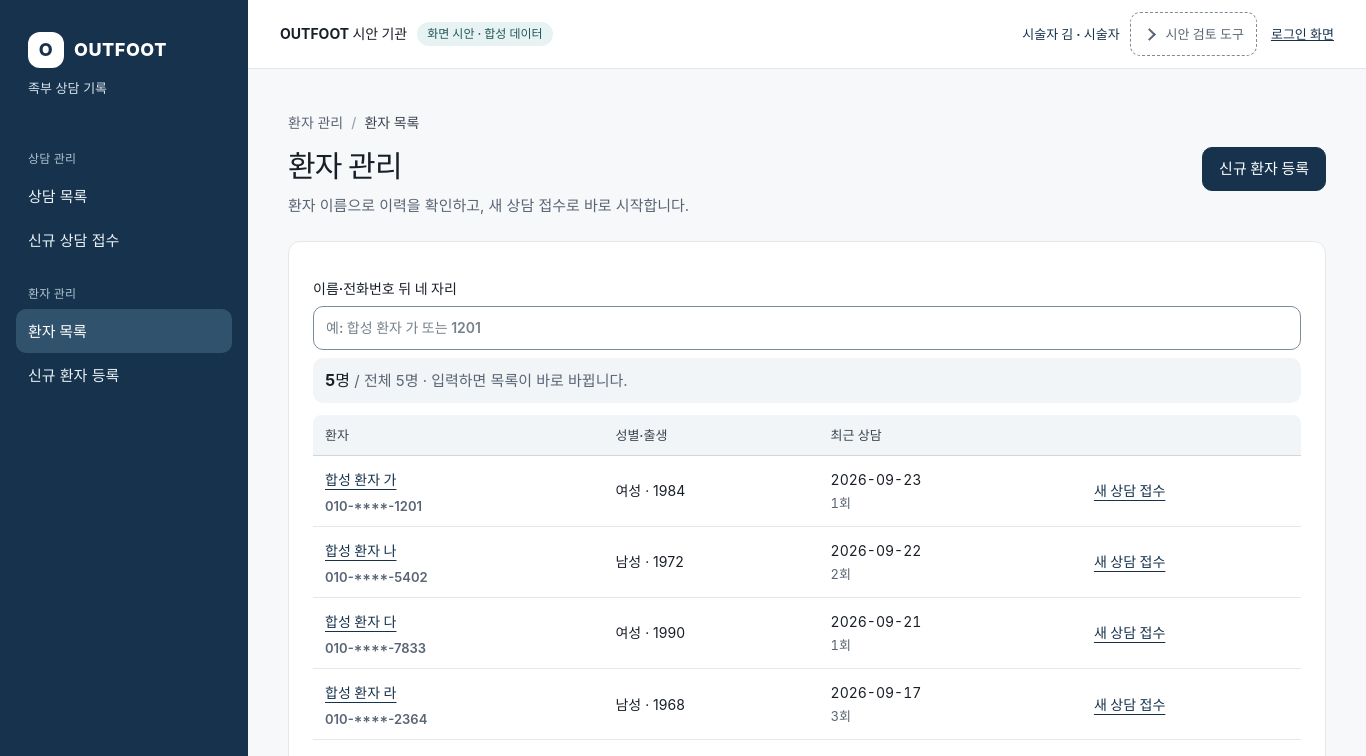
Test: patient list return path (R5) › returns from patient detail to the searched list with 환자 목록으로
Type "5402" into the search field labelled "이름·전화번호 뒤 네 자리" at (807, 328), box top-left (313, 306), bottom-right (1301, 350)
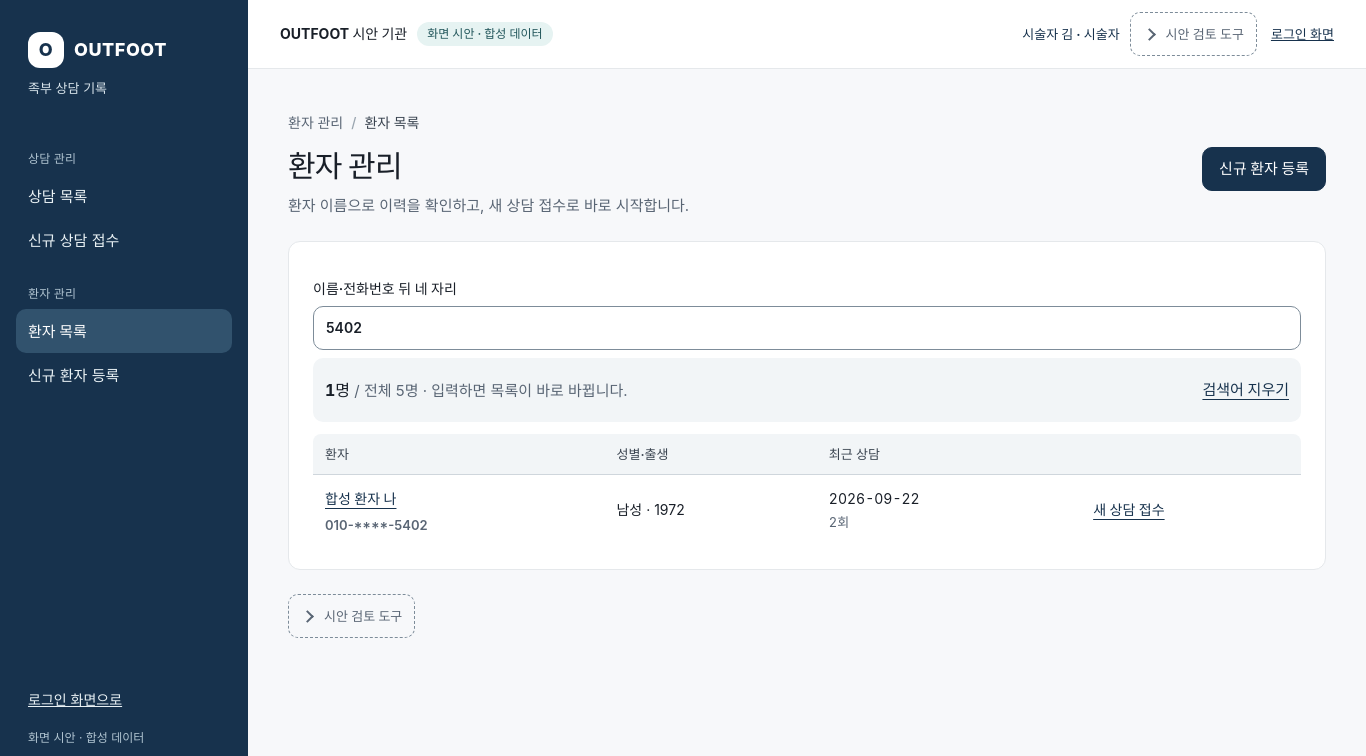
Click the link to "/patients/p-b" at (361, 499), box top-left (325, 490), bottom-right (396, 507)
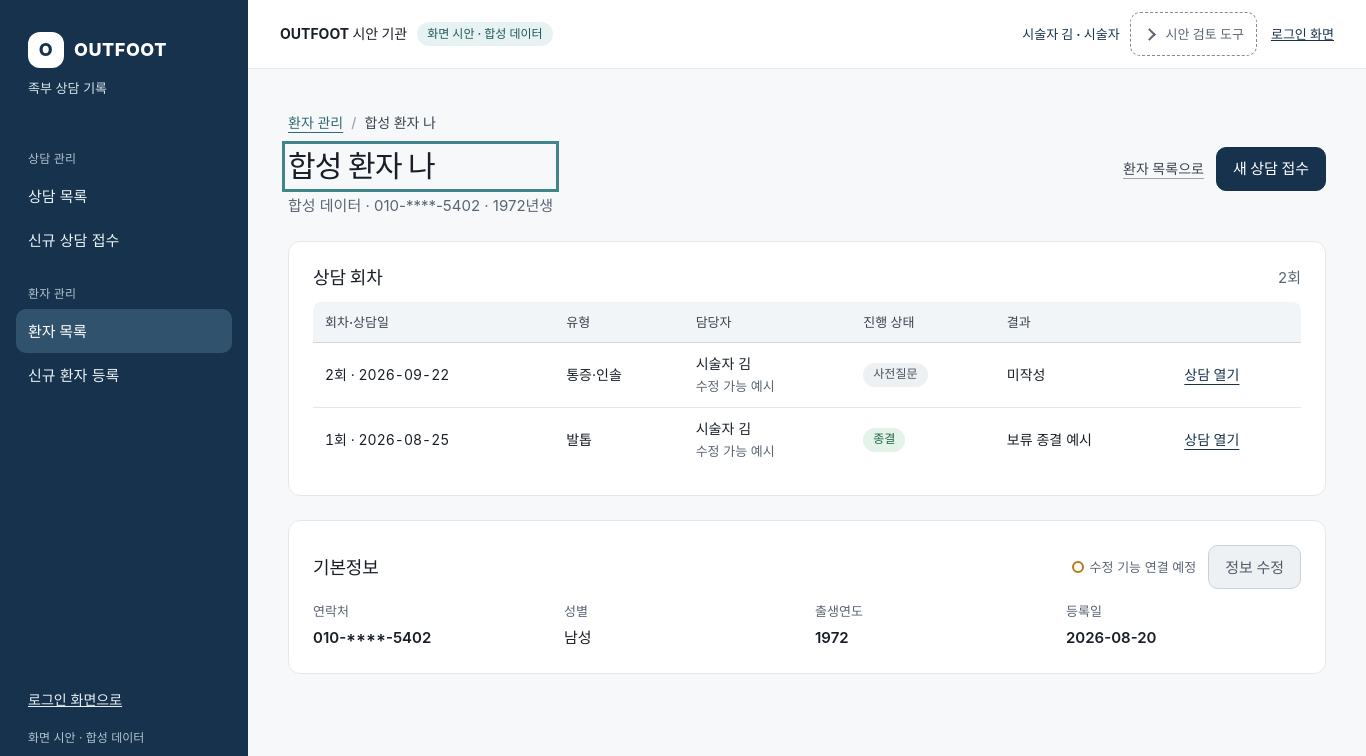
Click the link "환자 목록으로" at (1164, 169), box top-left (1123, 160), bottom-right (1204, 177)
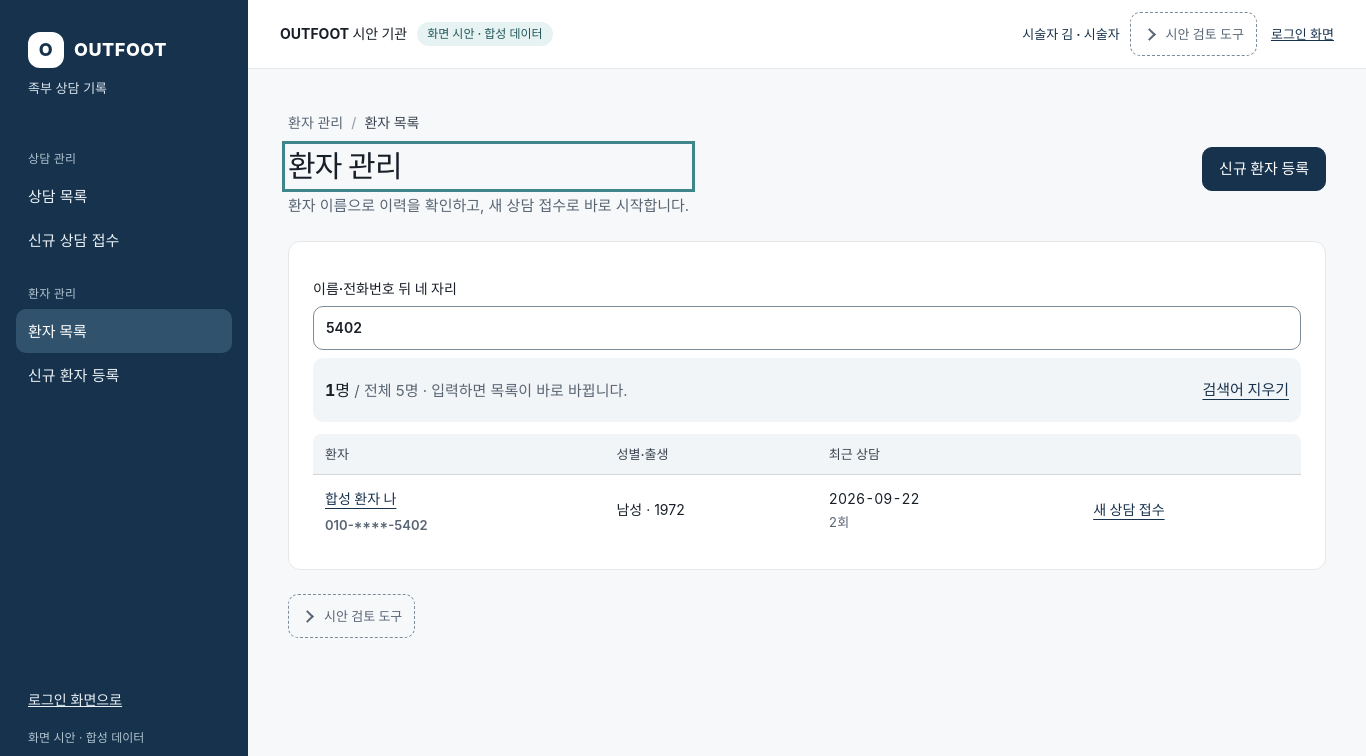
Check: the search field labelled "이름·전화번호 뒤 네 자리" holds "5402", box top-left (313, 306), bottom-right (1301, 350)
